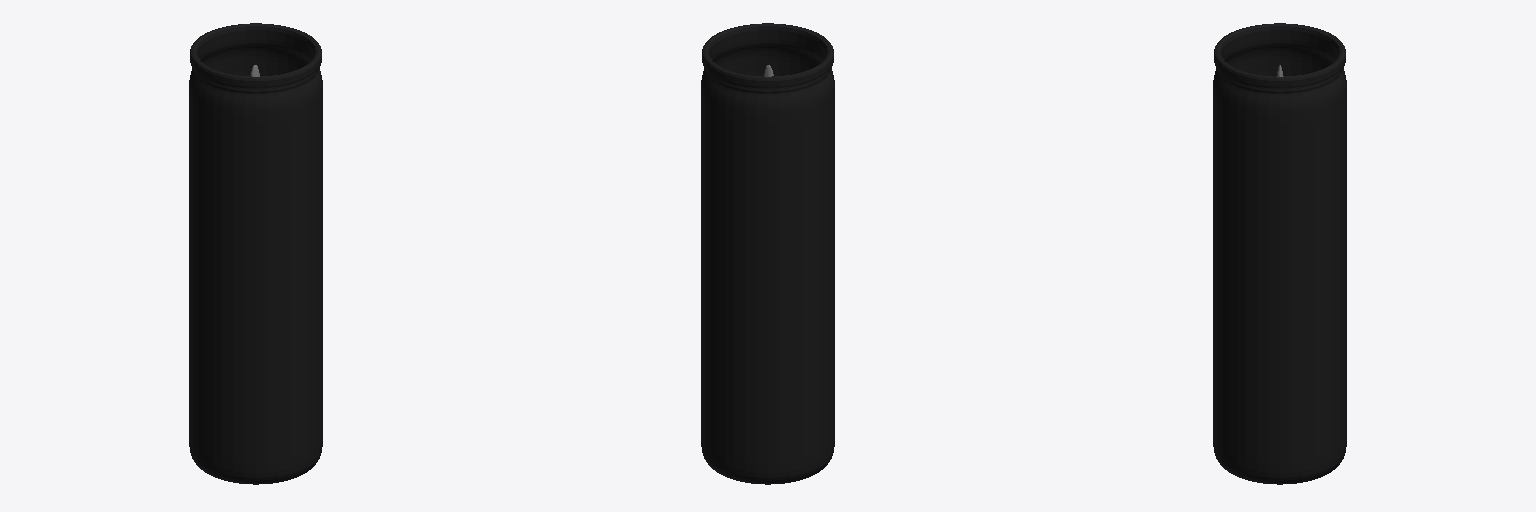
File: Voodoo_Candle_02_Red_With_Flame.obj
3 views of the same model, side by side, from view 1: azimuth 30°, elevation 25°; view 2: azimuth 150°, elevation 25°; view 3: azimuth 270°, elevation 25° (orthographic).
Parts seen in each view (by area): view 1: Glass; view 2: Glass; view 3: Glass.
Part boxes in pixels (x1,y1,x2,y2): Glass: (189, 23, 322, 484); Glass: (701, 23, 834, 484); Glass: (1213, 23, 1346, 484).
Bounding box in the file's own units: 8.87 × 30.02 × 8.87.